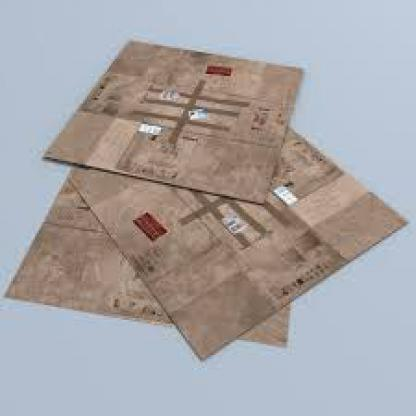CARDBOARD: (67, 133, 403, 355), (2, 181, 288, 348), (37, 37, 301, 203)
